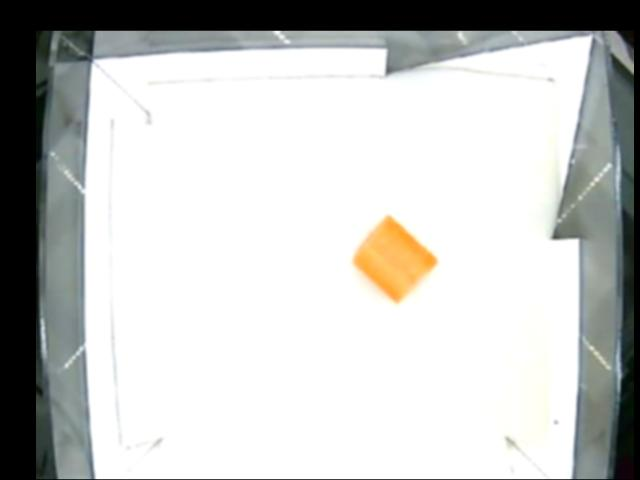Carrot: (354, 212, 436, 305)
